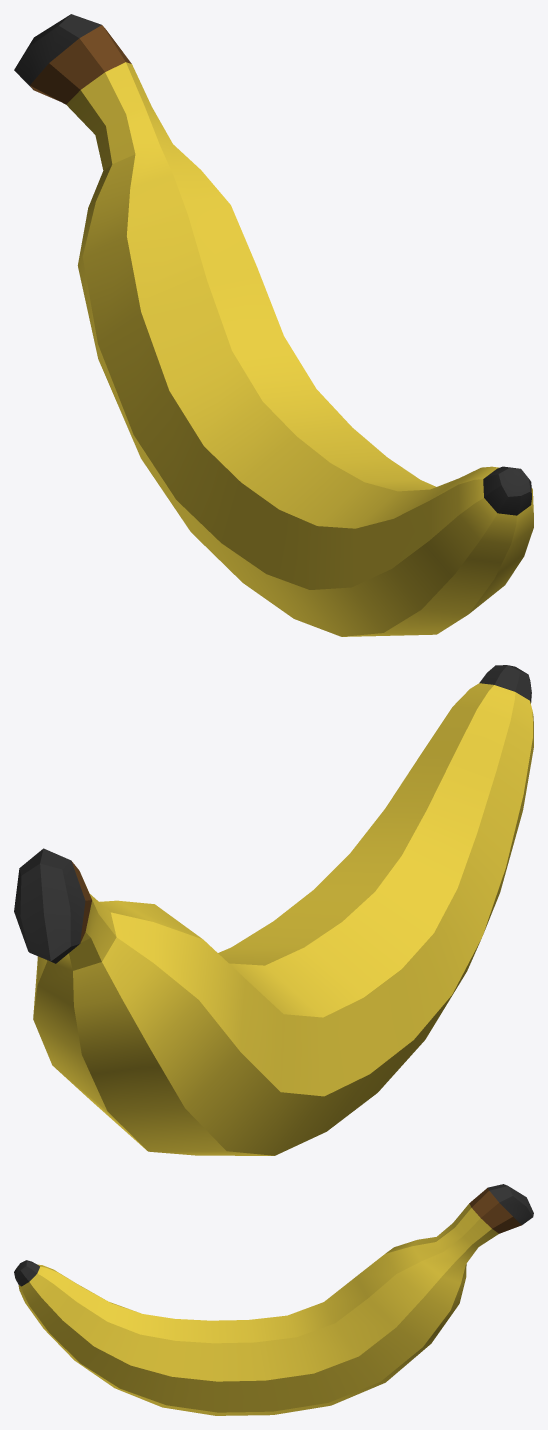
File: nonRecyclable2.glb
The picture shows the model from 3 angles, top to bottom: view 1: azimuth 30°, elevation 25°; view 2: azimuth 150°, elevation 25°; view 3: azimuth 270°, elevation 25°; orthographic projection. The views are drawn at different scales.
Parts seen in each view (by area): view 1: Banana, Banana001, Banana002; view 2: Banana, Banana001; view 3: Banana, Banana001, Banana002.
Part boxes in pixels (x1,y1,x2,y2): Banana: [66, 62, 533, 636]; Banana001: [14, 14, 531, 515]; Banana002: [30, 25, 131, 104]; Banana: [33, 683, 533, 1155]; Banana001: [14, 665, 531, 963]; Banana: [18, 1203, 498, 1415]; Banana001: [14, 1184, 533, 1286]; Banana002: [469, 1187, 521, 1233].
Size of the model in its own units: 0.7603 by 1.8 by 3.75.
